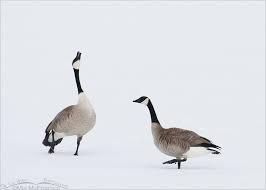goose: (131, 94, 225, 172), (38, 50, 101, 160)
